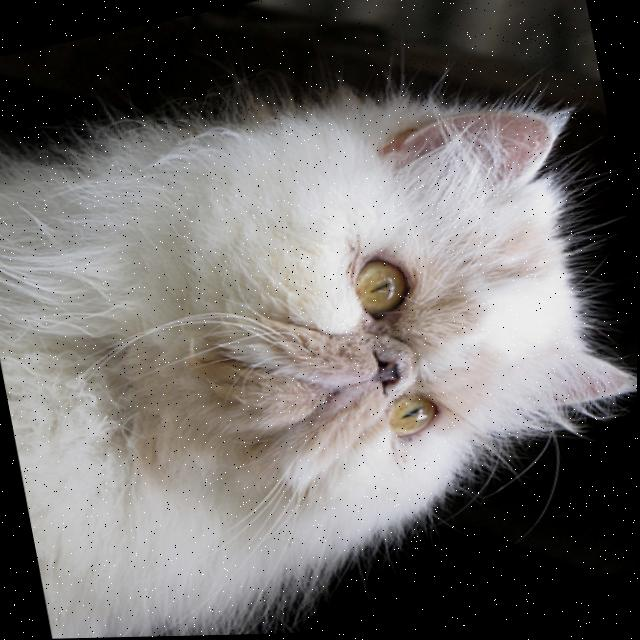Persian: (0, 21, 640, 640)
